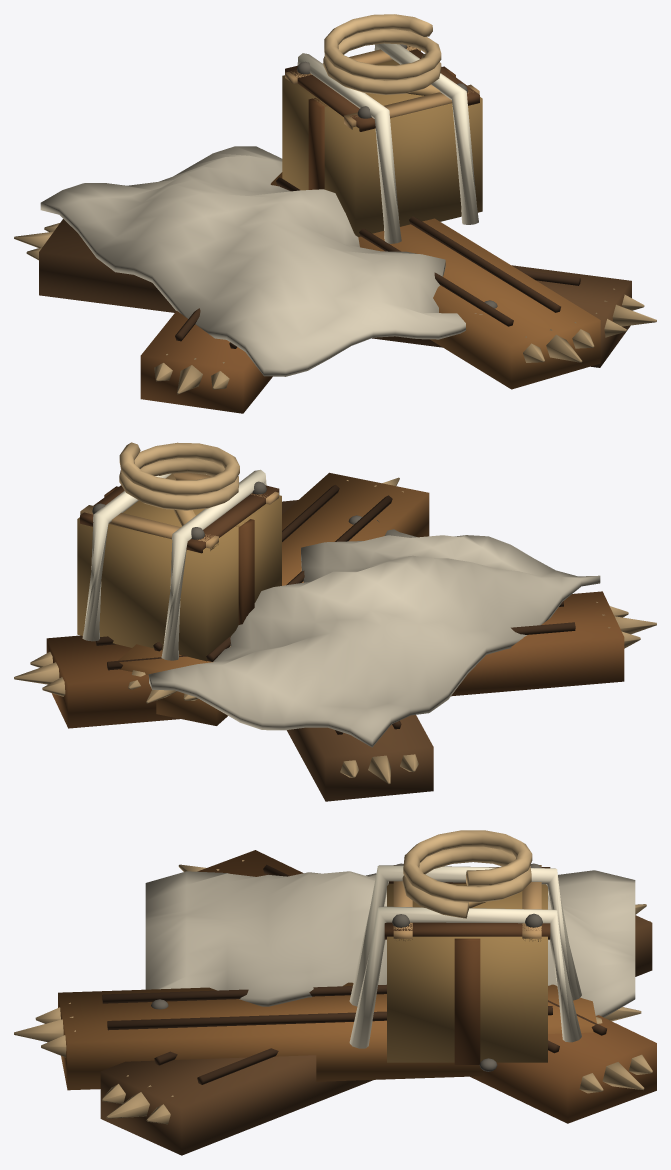
File: objeto-restos.glb
3 renders of one model, top to bottom at view 1: azimuth 30°, elevation 25°; view 2: azimuth 150°, elevation 25°; view 3: azimuth 270°, elevation 25°, orthographic. The views are drawn at different scales.
Parts seen in each view (by area): view 1: Cloth, Planks, Crate; view 2: Cloth, Planks, Crate; view 3: Planks, Crate, Cloth.
Part boxes in pixels (<box>): Cloth: <box>40,146,482,376</box>; Planks: <box>14,172,656,413</box>; Crate: <box>282,14,482,243</box>; Cloth: <box>148,520,600,747</box>; Planks: <box>14,472,656,801</box>; Crate: <box>77,442,281,661</box>; Planks: <box>14,850,656,1155</box>; Crate: <box>349,830,581,1064</box>; Cloth: <box>145,870,635,1017</box>.
Bounding box in the file's own units: 0.902 × 0.4203 × 1.
